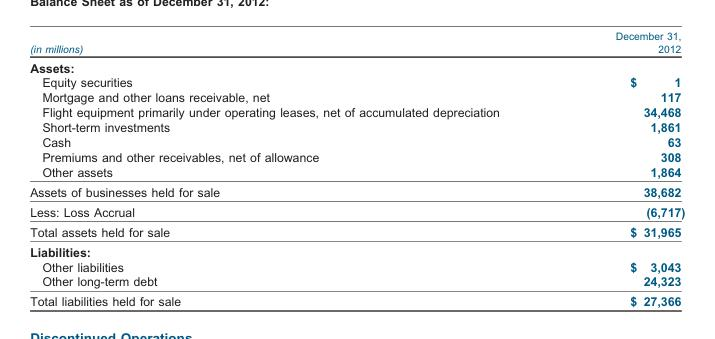table: (29, 29, 684, 308)
table column: (29, 29, 556, 308), (556, 29, 684, 308)
table column header: (29, 29, 684, 56)
table projected row header: (29, 56, 684, 74), (29, 241, 684, 258)
table row: (29, 29, 684, 56), (29, 181, 684, 201), (29, 201, 684, 221), (29, 221, 684, 241), (29, 56, 684, 74), (29, 163, 684, 181), (29, 290, 684, 308), (29, 241, 684, 258), (29, 273, 684, 290), (29, 74, 684, 89), (29, 89, 684, 104), (29, 104, 684, 119), (29, 133, 684, 148), (29, 148, 684, 163), (29, 258, 684, 273), (29, 119, 684, 133)
